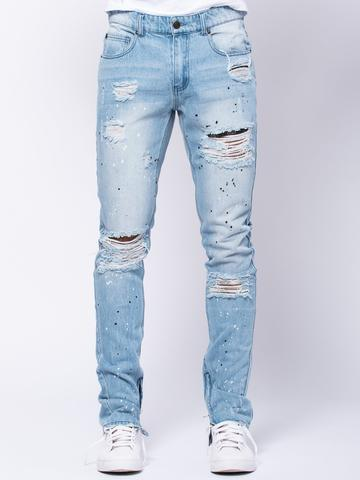Jeans: (86, 8, 266, 427)
